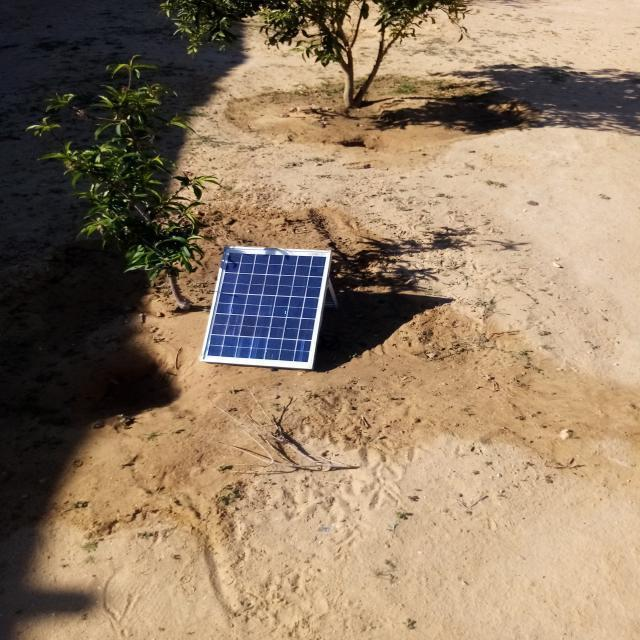Normal Solar Panel: (202, 247, 331, 369)
